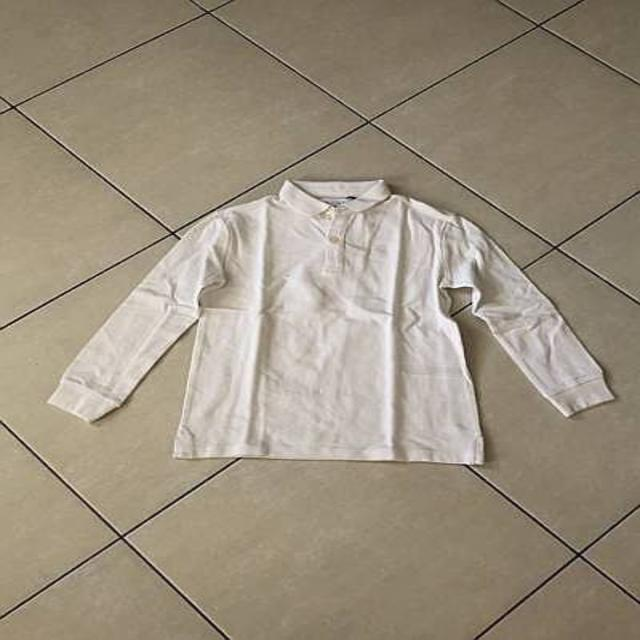SHIRT: (39, 169, 626, 474)
